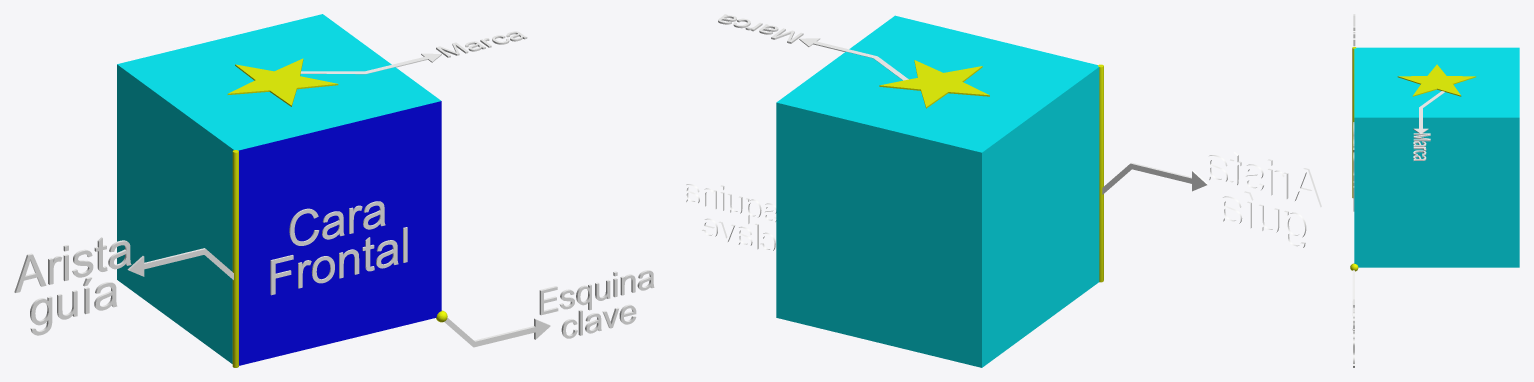
The model's file is cubo.glb.
The picture shows the model from 3 angles, left to right: view 1: azimuth 30°, elevation 25°; view 2: azimuth 150°, elevation 25°; view 3: azimuth 270°, elevation 25°; orthographic projection. The views are drawn at different scales.
Visible parts, largest first — view 1: cubo, AristaGuia, CaraFrontal, EsquinaClave, Marca/Patron, arista, Marca; view 2: cubo, AristaGuia, Marca/Patron, Marca, arista, EsquinaClave; view 3: cubo, Marca/Patron, Marca, arista, EsquinaClave, CaraFrontal.
Part boxes in pixels (x1,y1,x2,y2): cubo: [117, 14, 441, 365]; AristaGuia: [14, 237, 233, 335]; CaraFrontal: [270, 201, 407, 295]; EsquinaClave: [444, 270, 654, 347]; Marca/Patron: [227, 58, 338, 106]; arista: [232, 150, 238, 367]; Marca: [300, 31, 527, 74]; cubo: [776, 15, 1099, 367]; AristaGuia: [1102, 151, 1321, 247]; Marca/Patron: [879, 60, 989, 108]; Marca: [718, 14, 908, 80]; arista: [1098, 64, 1103, 282]; EsquinaClave: [686, 184, 776, 250]; cubo: [1354, 47, 1519, 267]; Marca/Patron: [1397, 64, 1476, 96]; Marca: [1413, 91, 1444, 160]; arista: [1352, 47, 1356, 197]; EsquinaClave: [1352, 270, 1354, 367]; CaraFrontal: [1353, 122, 1354, 211].
Size of the model in its own units: 1.58 by 0.6355 by 0.5207.
